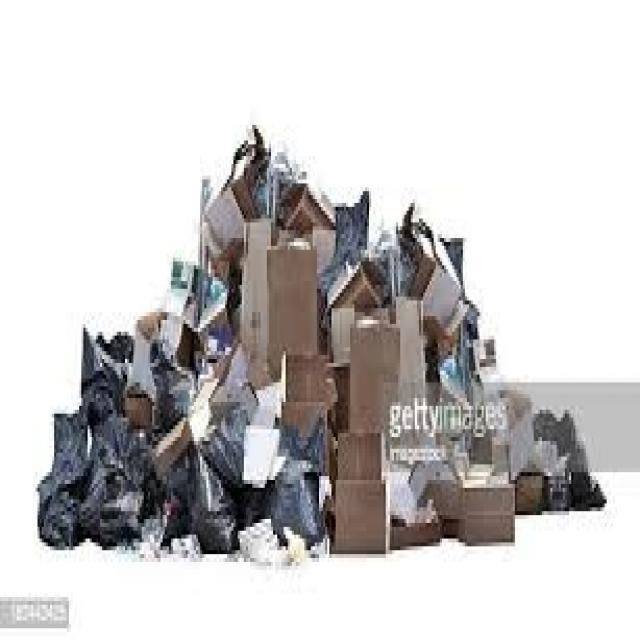garbage: (202, 192, 505, 426), (54, 414, 582, 530), (81, 156, 292, 426)
